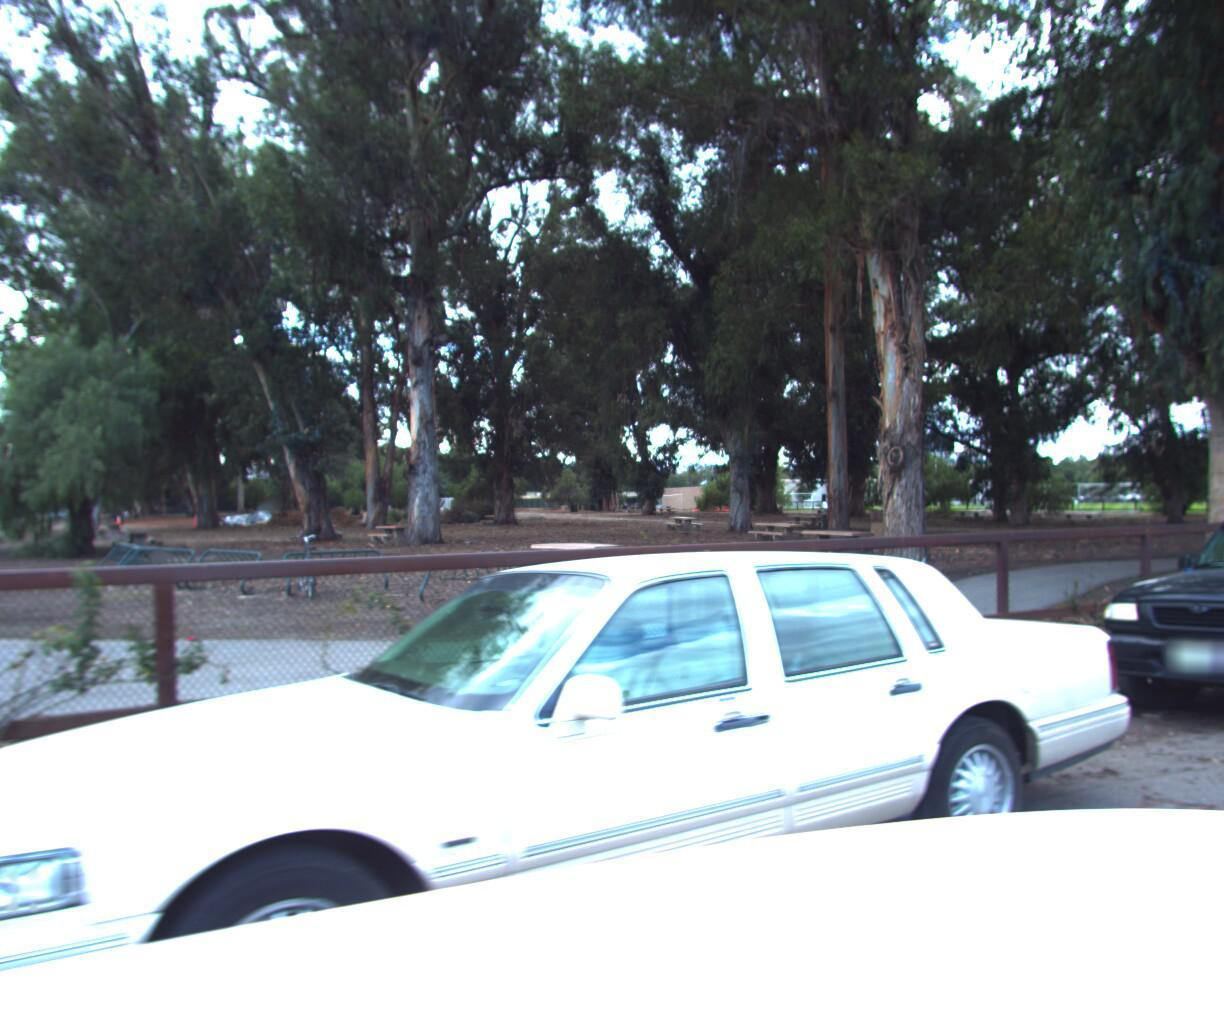bicycle: (283, 522, 345, 592)
car: (0, 520, 1191, 1024), (1080, 451, 1224, 766)
